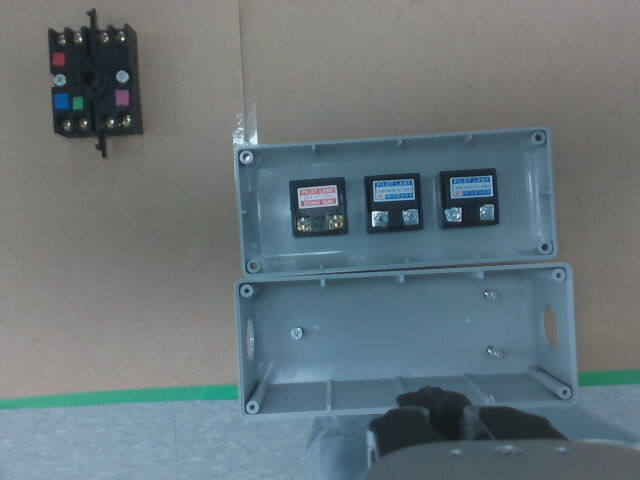L1(1): (297, 217, 311, 231)
L1(2): (328, 214, 343, 229)
L2(1): (371, 211, 387, 226)
L2(2): (402, 209, 419, 225)
L3(1): (446, 207, 461, 222)
L3(2): (479, 204, 494, 220)
